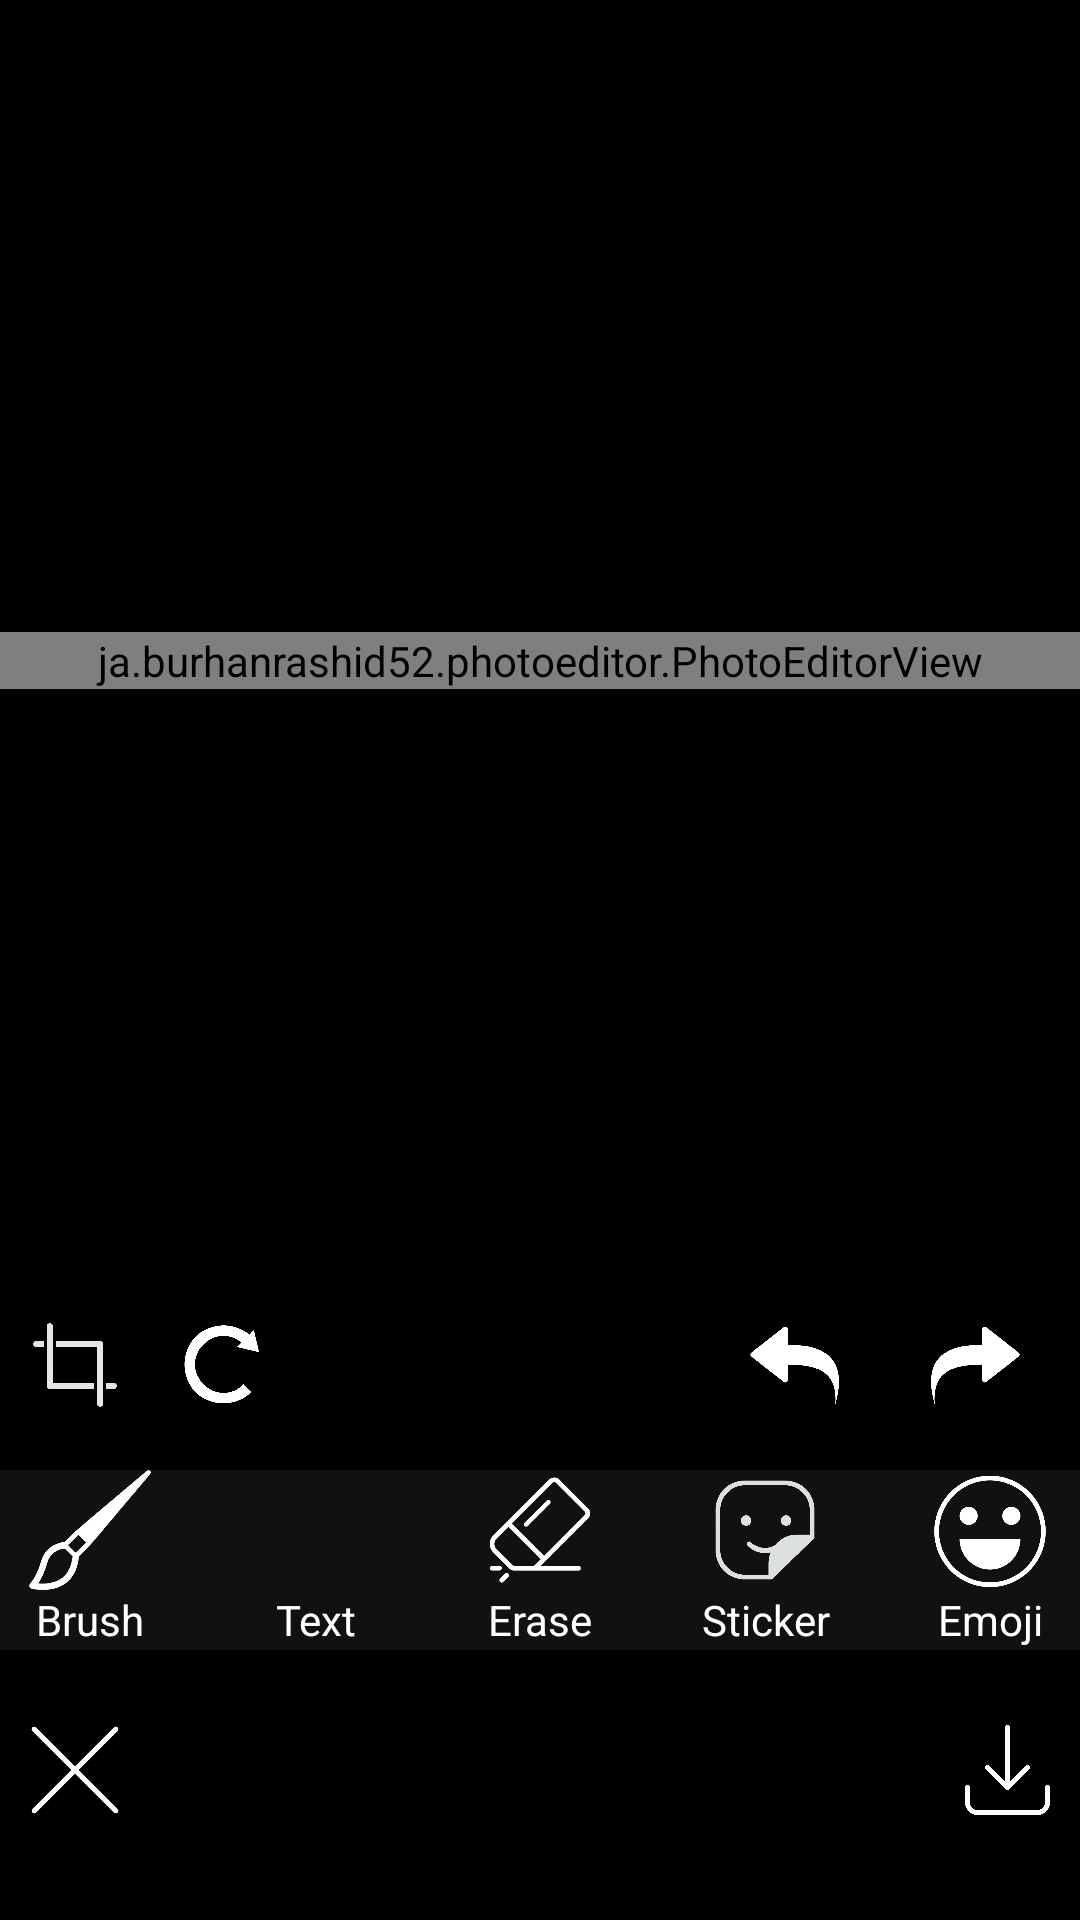

Icon bounding boxes for this 1080 × 1920 phone screenshot, format [left=x1, top=y1, right=x2, bottom=y2]:
cancel: [left=31, top=1726, right=119, bottom=1814]
crop: [left=33, top=1323, right=117, bottom=1407]
download: [left=965, top=1725, right=1050, bottom=1815]
redo: [left=931, top=1327, right=1020, bottom=1405]
rotate: [left=184, top=1325, right=259, bottom=1403]
undo: [left=750, top=1327, right=839, bottom=1405]
